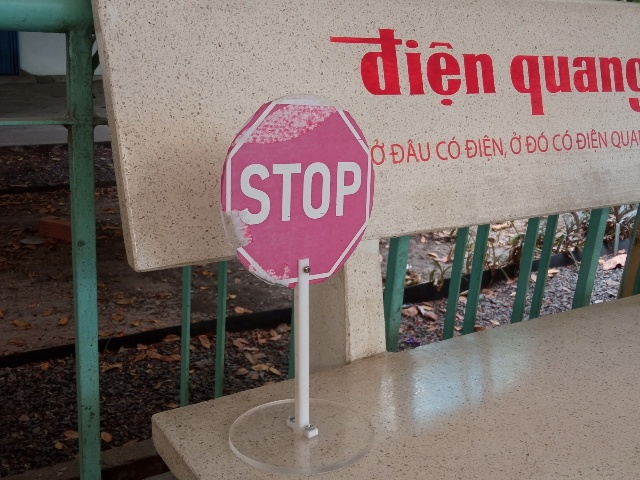Stop_Sign: (220, 94, 375, 287)
